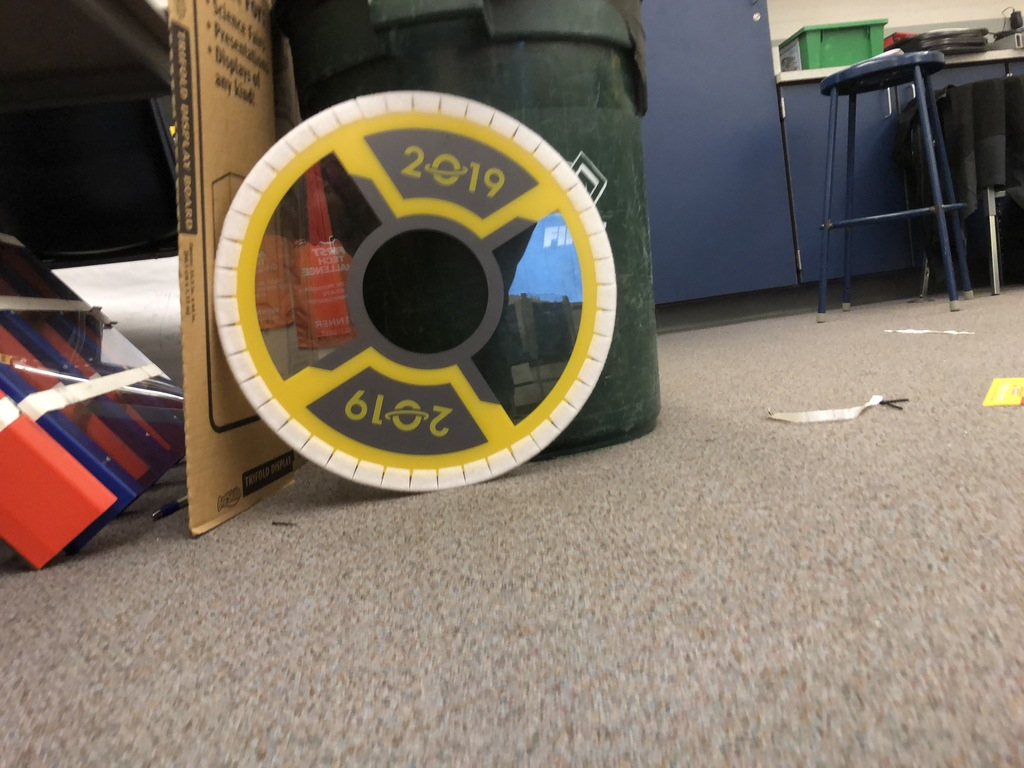hatch_panel: (213, 77, 632, 519)
